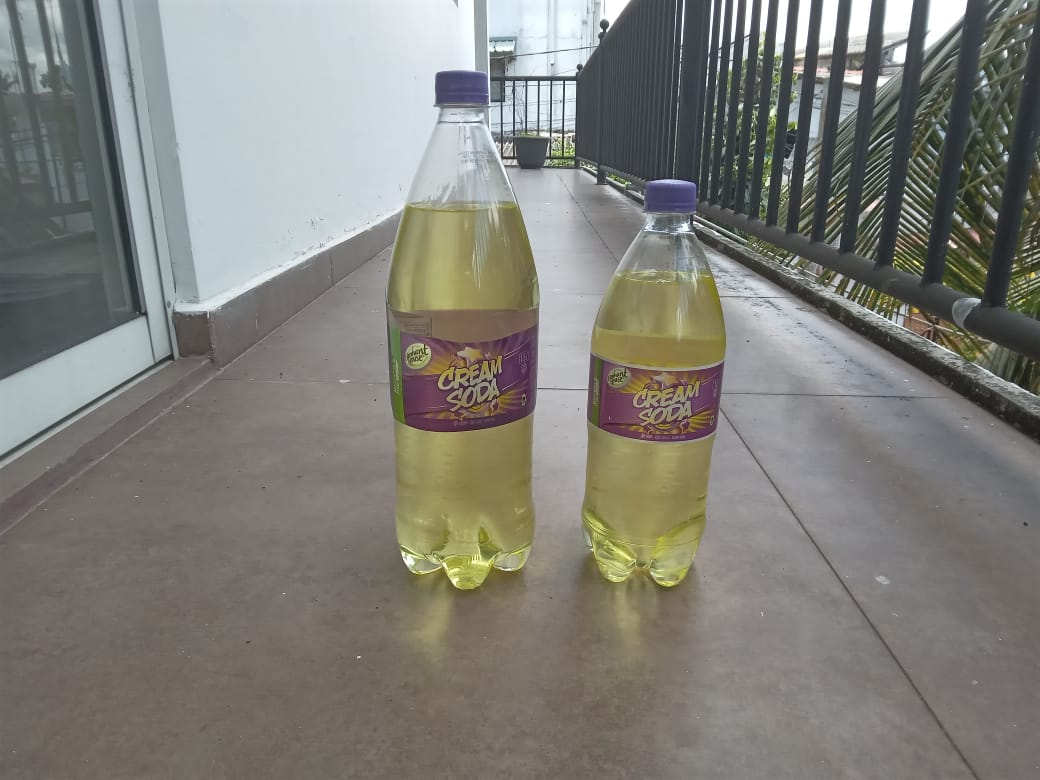L: (388, 71, 538, 597)
M: (582, 176, 730, 591)
